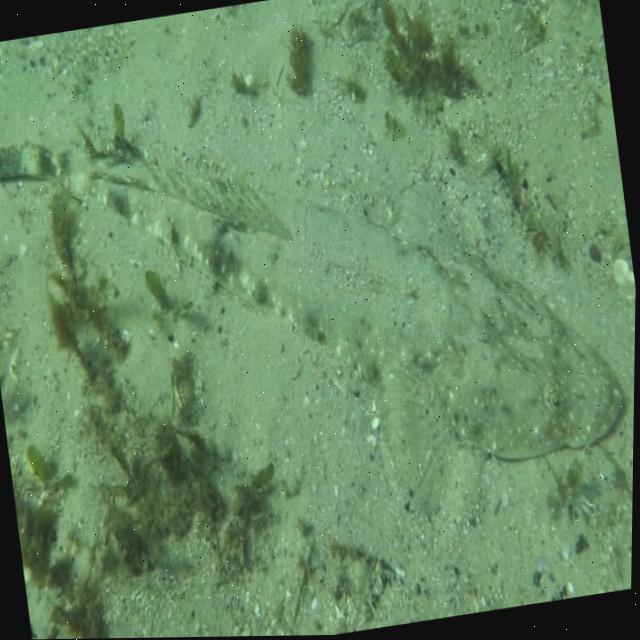Flathead: (0, 23, 640, 585)
